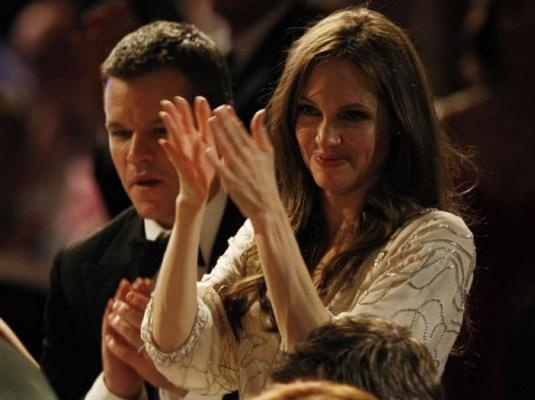person without safety: (238, 2, 482, 400)
